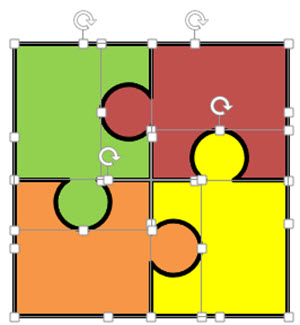puzzle piece: (10, 34, 153, 233)
